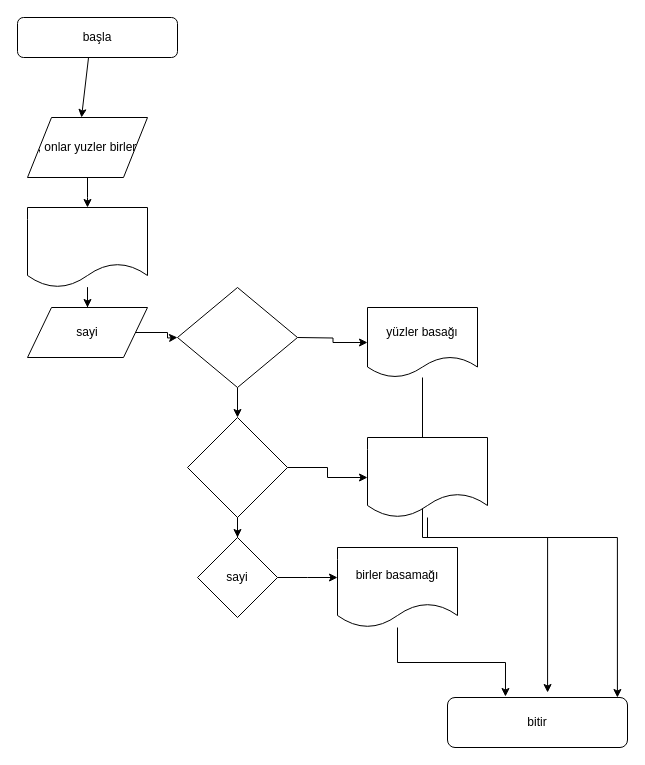
Image size: 645x765. Some labels were removed from this diagram. The shapes that lost their labels are listed below. From the top down, each one's box as (x1, y1, x2, y2) in pixels, then its label:
(26, 206, 148, 288): sayıyı girin
(176, 286, 298, 388): sayi/100
(186, 416, 288, 518): sayi/10
(366, 436, 488, 518): onlar basamağı
